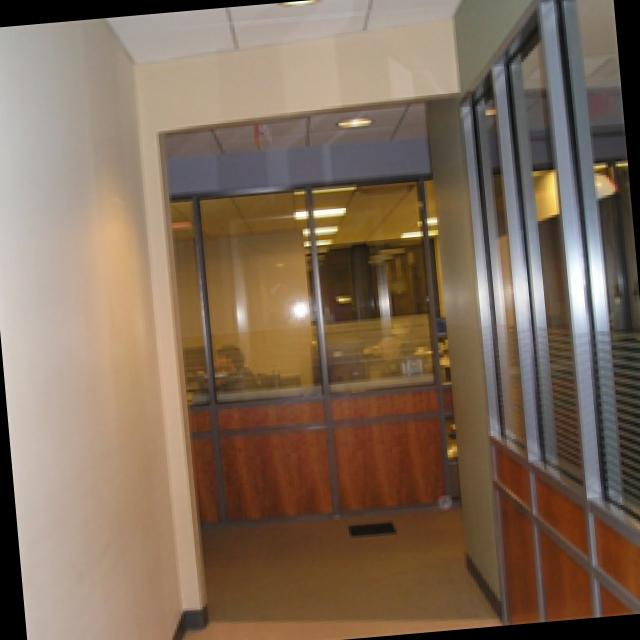2001: (553, 0, 640, 520), (502, 8, 583, 483), (308, 176, 433, 392), (196, 186, 321, 402), (469, 82, 522, 445), (166, 193, 207, 405)
ceiling beam: (102, 0, 456, 63), (161, 98, 427, 156)
ceiling vent: (335, 115, 370, 127), (275, 0, 316, 5)
floor -X: (179, 504, 502, 640)
vent -x: (345, 520, 394, 536)
wall clock: (132, 15, 458, 628), (454, 0, 640, 623), (163, 135, 459, 526), (0, 18, 182, 640), (424, 0, 528, 620)
